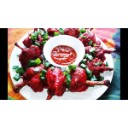chicken_lollipop: (70, 66, 115, 93), (14, 64, 46, 100), (10, 41, 42, 67), (48, 68, 67, 103), (84, 43, 118, 61), (86, 55, 115, 76), (25, 27, 47, 46), (81, 28, 98, 46)
